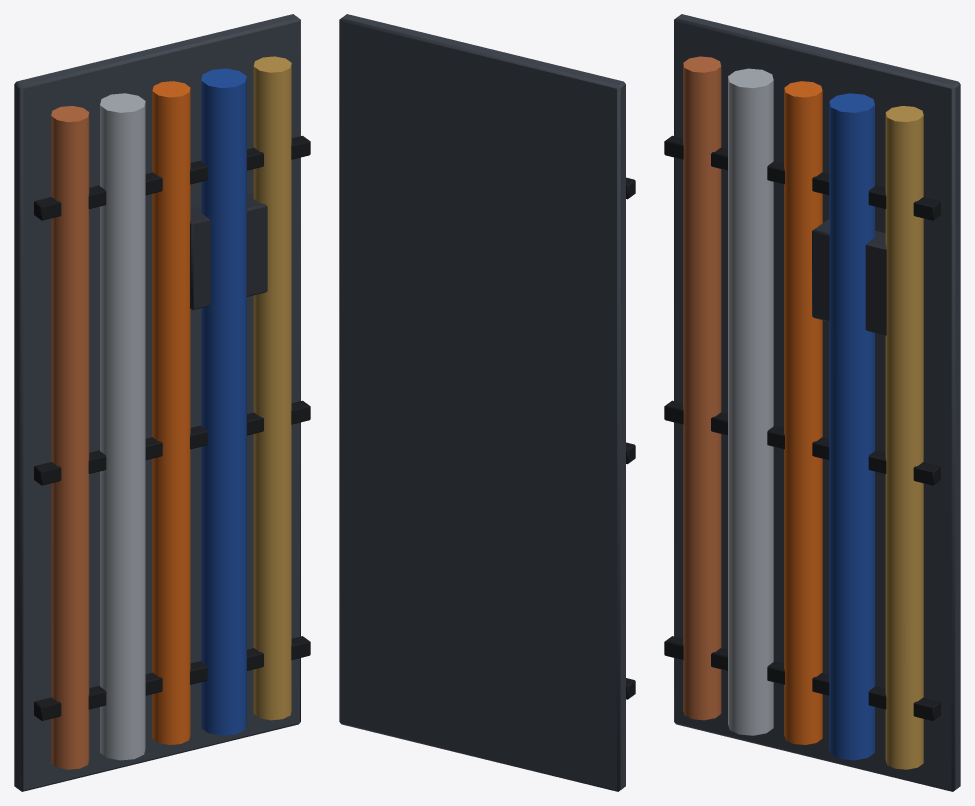
Rendered from wallpanel_tall_conduit_bundle.glb.
3 views of the same model, side by side, from view 1: azimuth 30°, elevation 25°; view 2: azimuth 150°, elevation 25°; view 3: azimuth 330°, elevation 25° (orthographic).
Parts seen in each view (by area): view 1: wallpanel_tall_conduit_bundle; view 2: wallpanel_tall_conduit_bundle; view 3: wallpanel_tall_conduit_bundle.
Boxes of the visible parts, box(x1,y1,x2,y2) form: wallpanel_tall_conduit_bundle: box(14, 14, 310, 791); wallpanel_tall_conduit_bundle: box(339, 14, 635, 791); wallpanel_tall_conduit_bundle: box(664, 14, 960, 791).
Size of the model in its own units: 1 by 2.4 by 0.194.
